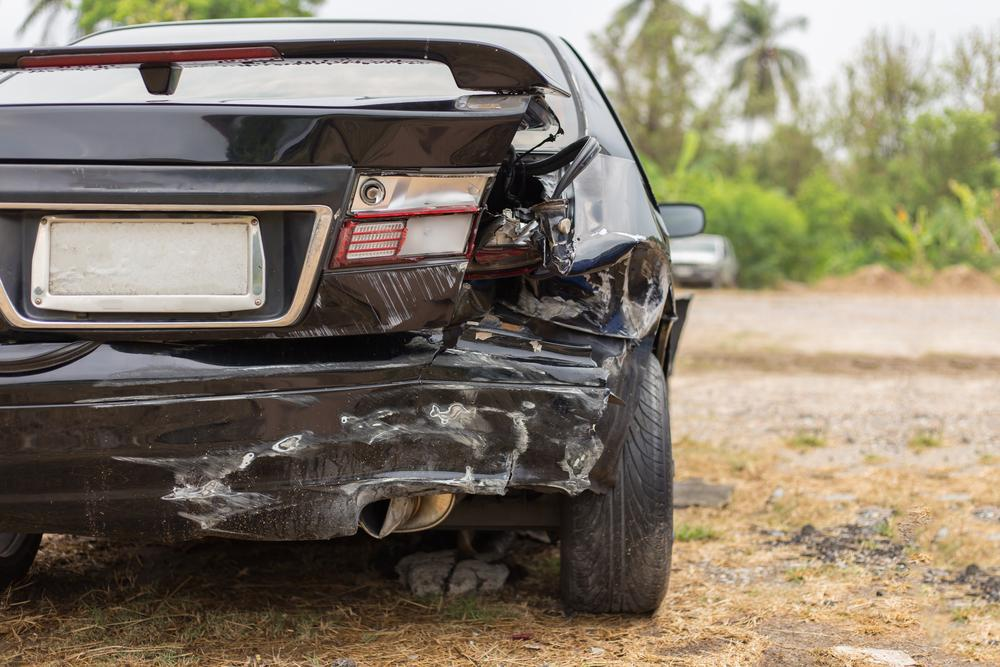crack: (390, 326, 465, 383)
dent: (570, 241, 667, 335)
lamp broken: (324, 168, 553, 273)
scratch: (115, 392, 603, 540), (276, 262, 461, 335)
